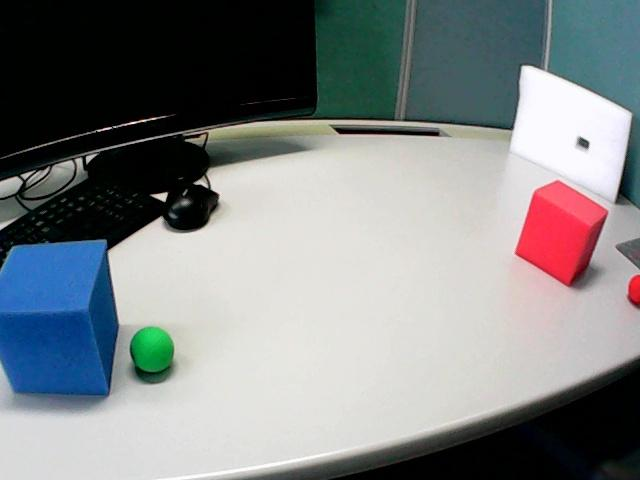blue_block: (0, 241, 117, 394)
red_block: (516, 181, 607, 284)
